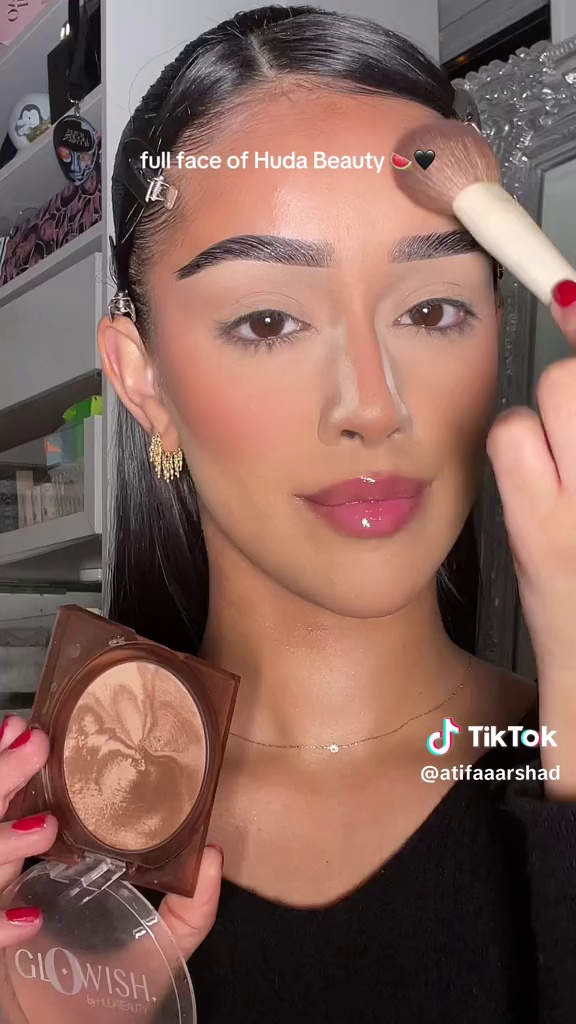train' :'yolo_data/train/images',: (1, 598, 254, 1023), (394, 114, 575, 367)
